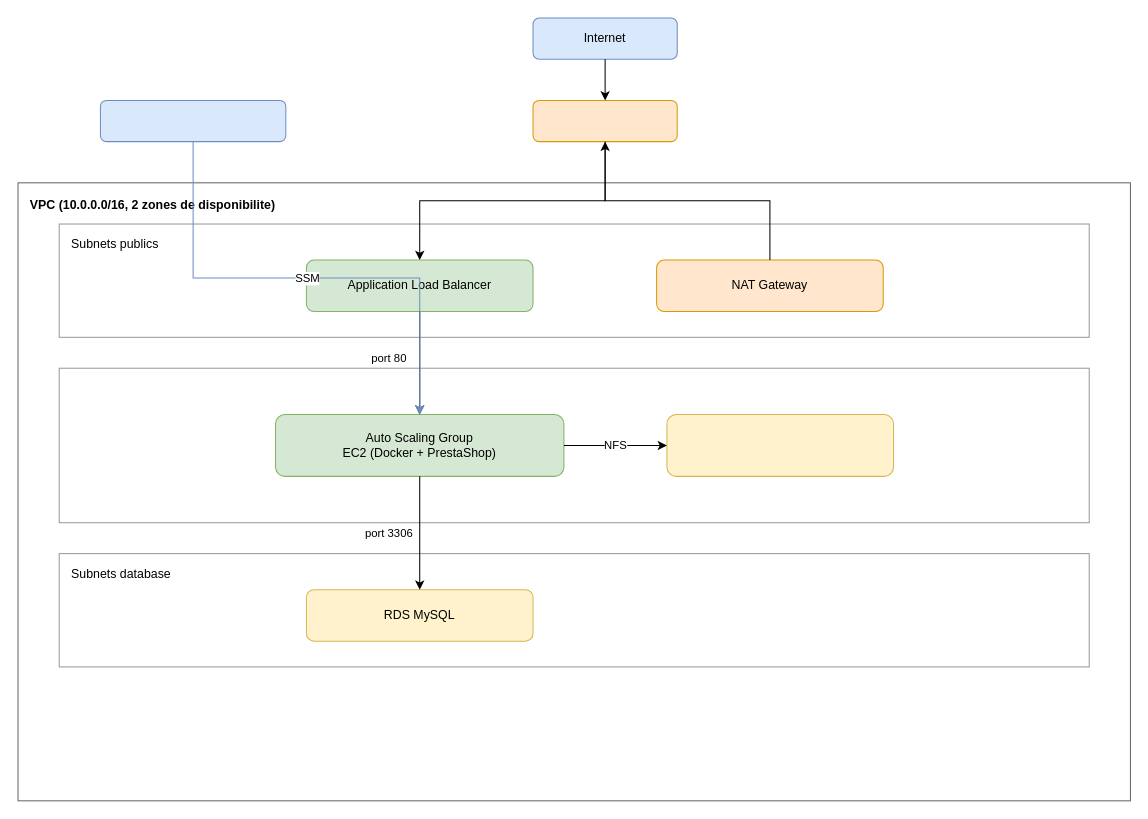
Image size: 1148x819. Some labels were removed from this diagram. Here are the shapes that lost their labels. From the top down, the box of each, then its label:
(99, 99, 286, 142): Ansible (SSM, pas de SSH)
(532, 99, 677, 142): Internet Gateway
(58, 367, 1089, 523): Subnets prives
(666, 414, 894, 476): EFS (stockage partage)
